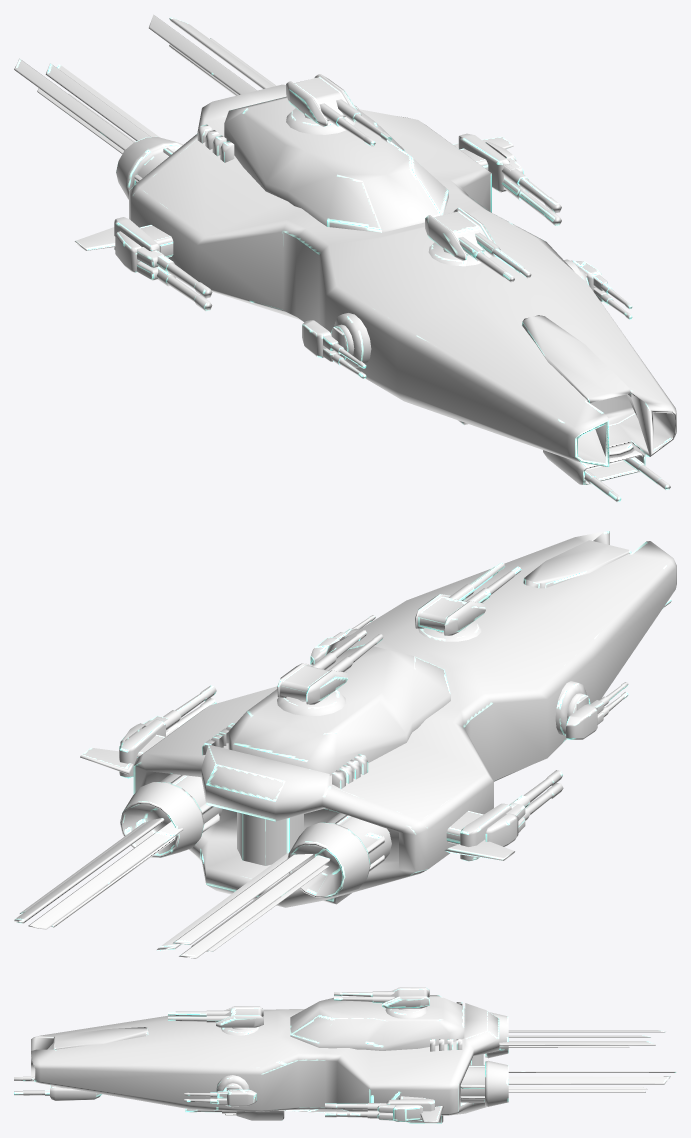
Rendered from croiseur_v3.glb.
3 renders of one model, top to bottom at view 1: azimuth 30°, elevation 25°; view 2: azimuth 150°, elevation 25°; view 3: azimuth 270°, elevation 25°, orthographic. The views are drawn at different scales.
Parts seen in each view (by area): view 1: croiseur_v3; view 2: croiseur_v3; view 3: croiseur_v3.
Part boxes in pixels (x1,y1,x2,y2): croiseur_v3: [14, 14, 676, 502]; croiseur_v3: [14, 531, 676, 958]; croiseur_v3: [14, 987, 676, 1123].
Bounding box in the file's own units: 1.15 × 0.5167 × 2.6.
Materials: 1 (1 with a texture image).
